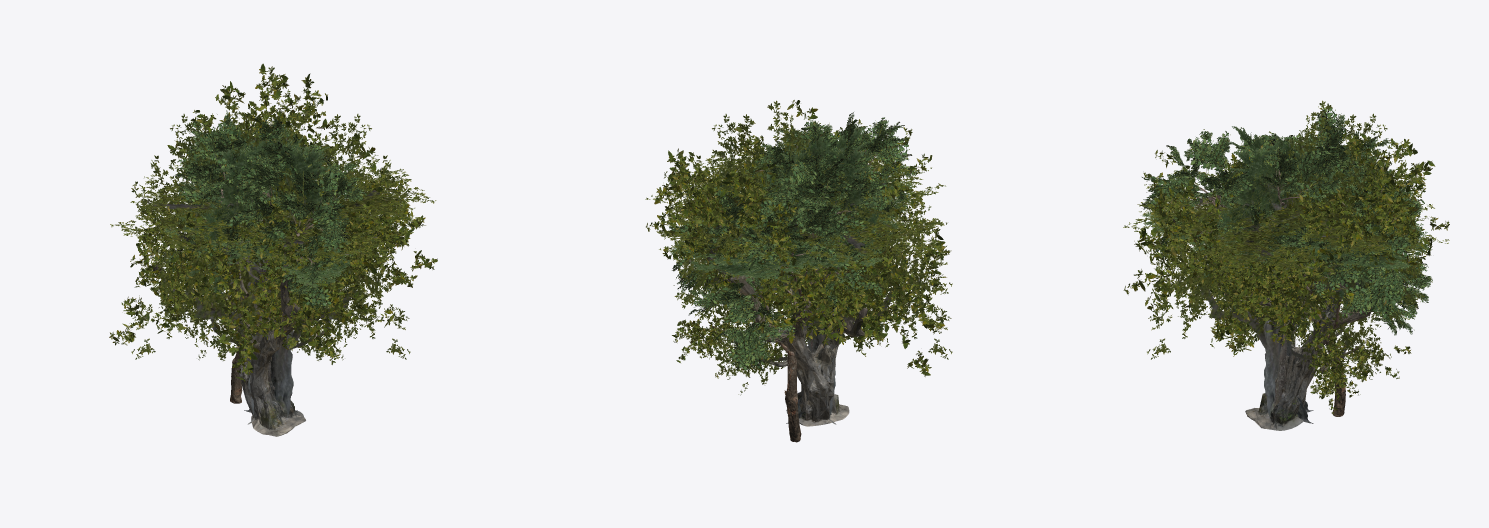
The model's file is floresta-lods.glb.
3 renders of one model, left to right at view 1: azimuth 30°, elevation 25°; view 2: azimuth 150°, elevation 25°; view 3: azimuth 270°, elevation 25°, orthographic.
Parts seen in each view (by area): view 1: v0_far, v0_near, v0_mid, v1_mid, v1_near, v1_far; view 2: v0_near, v0_mid, v0_far, v1_mid, v1_near, v1_far; view 3: v0_far, v0_near, v0_mid, v1_mid, v1_near, v1_far.
Part boxes in pixels (x1,y1,x2,y2): v0_far: [110, 100, 436, 424]; v0_near: [110, 66, 436, 436]; v0_mid: [109, 63, 437, 436]; v1_mid: [160, 110, 366, 403]; v1_near: [162, 114, 365, 403]; v1_far: [163, 134, 361, 400]; v0_near: [646, 100, 948, 426]; v0_mid: [646, 100, 949, 426]; v0_far: [645, 100, 952, 424]; v1_mid: [662, 112, 916, 442]; v1_near: [669, 113, 913, 441]; v1_far: [669, 126, 913, 352]; v0_far: [1123, 100, 1449, 423]; v0_near: [1123, 127, 1449, 430]; v0_mid: [1124, 128, 1449, 430]; v1_mid: [1141, 107, 1432, 416]; v1_near: [1143, 111, 1432, 416]; v1_far: [1142, 126, 1432, 407].
Size of the model in its own units: 5.53 by 5.53 by 5.53.
10 materials, 10 textured.
